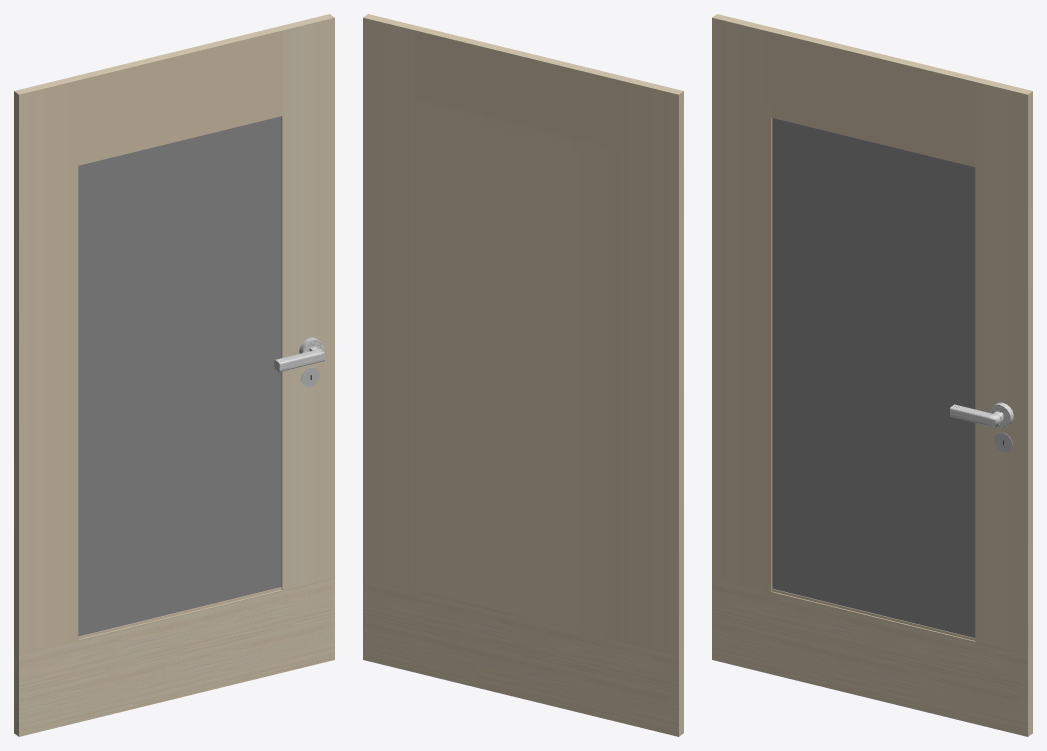
File: Door With Light.FBX
The picture shows the model from 3 angles, left to right: view 1: azimuth 30°, elevation 25°; view 2: azimuth 150°, elevation 25°; view 3: azimuth 330°, elevation 25°; orthographic projection.
Parts seen in each view (by area): view 1: Box001, Box004, Box002; view 2: Box001; view 3: Box001, Box004, Box002.
Part boxes in pixels (box(x1,y1,x2,y2)): Box001: box(14, 14, 334, 736); Box004: box(78, 116, 281, 636); Box002: box(274, 346, 324, 371); Box001: box(363, 14, 683, 736); Box001: box(712, 14, 1032, 736); Box004: box(772, 118, 975, 637); Box002: box(950, 404, 1003, 427).
Size of the model in its own units: 34.73 by 67.51 by 3.12.
Materials: 5 (4 with a texture image).
